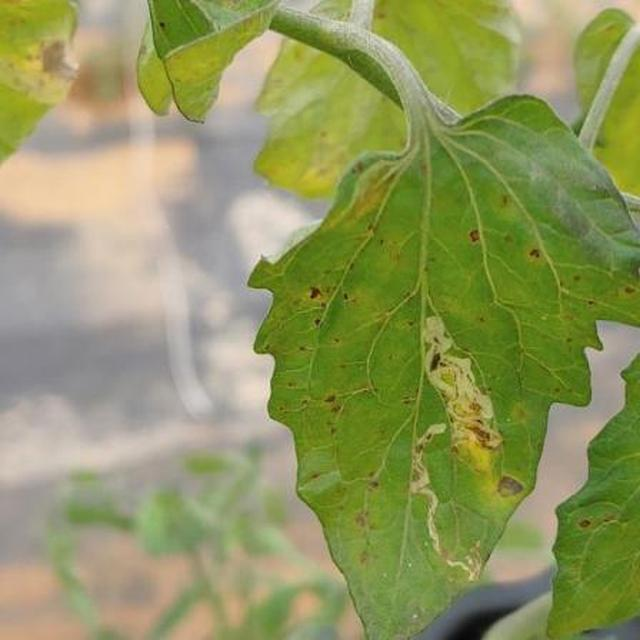Leaf Miner: (348, 204, 640, 640)
